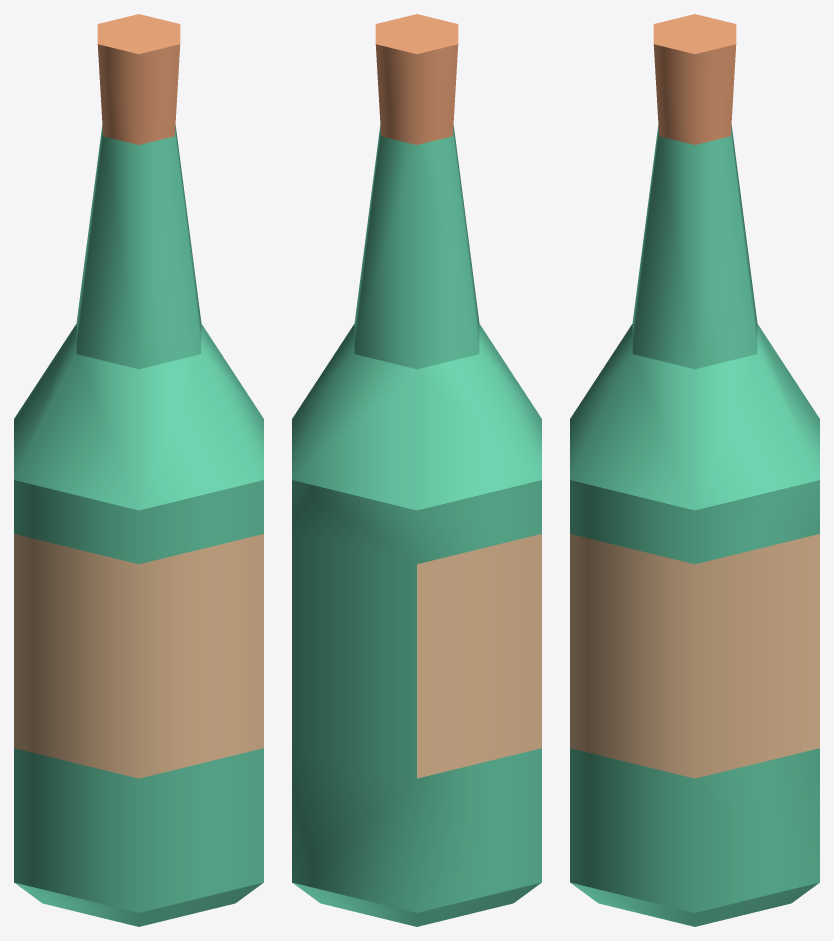
File: wineWhite.obj
3 renders of one model, left to right at view 1: azimuth 30°, elevation 25°; view 2: azimuth 150°, elevation 25°; view 3: azimuth 270°, elevation 25°, orthographic.
Visible parts, largest first — view 1: wineWhite; view 2: wineWhite; view 3: wineWhite.
Part boxes in pixels (<box>): wineWhite: <box>14,14,263,926</box>; wineWhite: <box>292,14,541,926</box>; wineWhite: <box>570,14,819,926</box>.
Size of the model in its own units: 0.2028 by 0.6556 by 0.1756.
